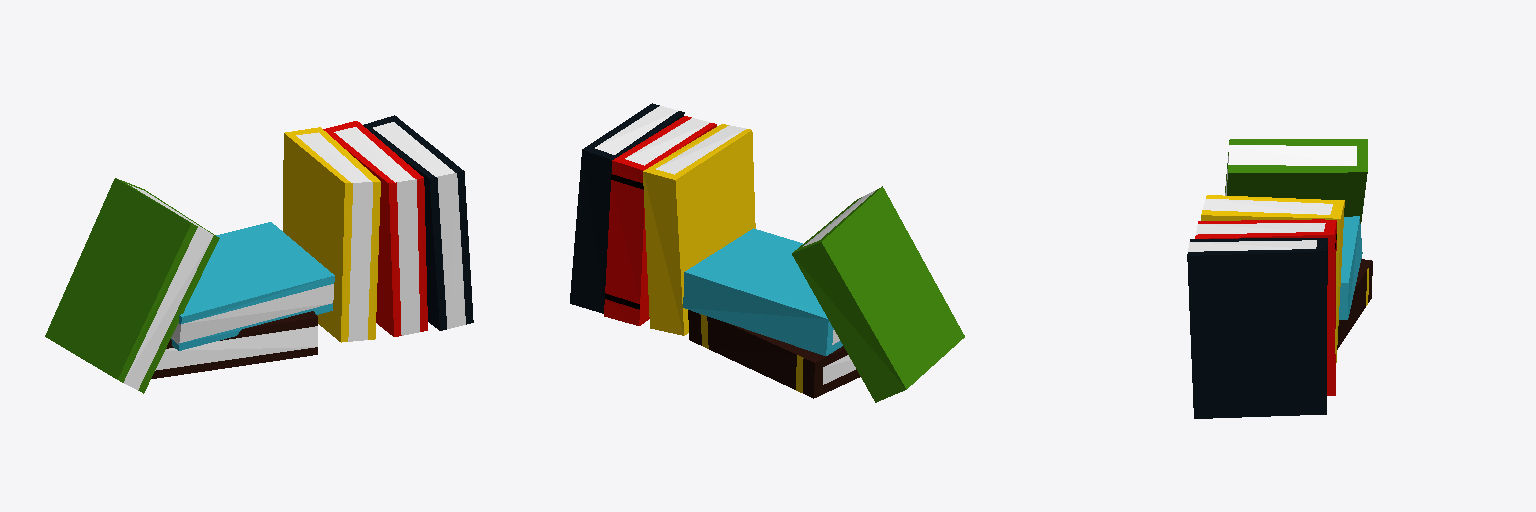
3 views of the same model, side by side, from view 1: azimuth 30°, elevation 25°; view 2: azimuth 150°, elevation 25°; view 3: azimuth 270°, elevation 25° (orthographic).
Parts seen in each view (by area): view 1: group[number redacted], group[number redacted], group[number redacted], group[number redacted], group[number redacted], group[number redacted]; view 2: group[number redacted], group[number redacted], group[number redacted], group[number redacted], group[number redacted], group[number redacted]; view 3: group[number redacted], group[number redacted], group[number redacted], group[number redacted], group[number redacted], group[number redacted].
Boxes of the visible parts, <box> form: group[number redacted]: <box>45,178,219,393</box>; group[number redacted]: <box>283,127,380,342</box>; group[number redacted]: <box>171,222,334,350</box>; group[number redacted]: <box>323,121,427,336</box>; group[number redacted]: <box>363,115,473,330</box>; group[number redacted]: <box>151,311,317,378</box>; group[number redacted]: <box>792,186,964,402</box>; group[number redacted]: <box>643,124,755,335</box>; group[number redacted]: <box>683,228,842,355</box>; group[number redacted]: <box>604,116,716,325</box>; group[number redacted]: <box>570,103,684,313</box>; group[number redacted]: <box>688,310,860,398</box>; group[number redacted]: <box>1187,238,1327,418</box>; group[number redacted]: <box>1225,139,1367,223</box>; group[number redacted]: <box>1195,219,1336,395</box>; group[number redacted]: <box>1201,195,1344,362</box>; group[number redacted]: <box>1339,216,1362,319</box>; group[number redacted]: <box>1337,259,1372,349</box>.
Size of the model in its own units: 0.1141 by 0.054 by 0.0524.